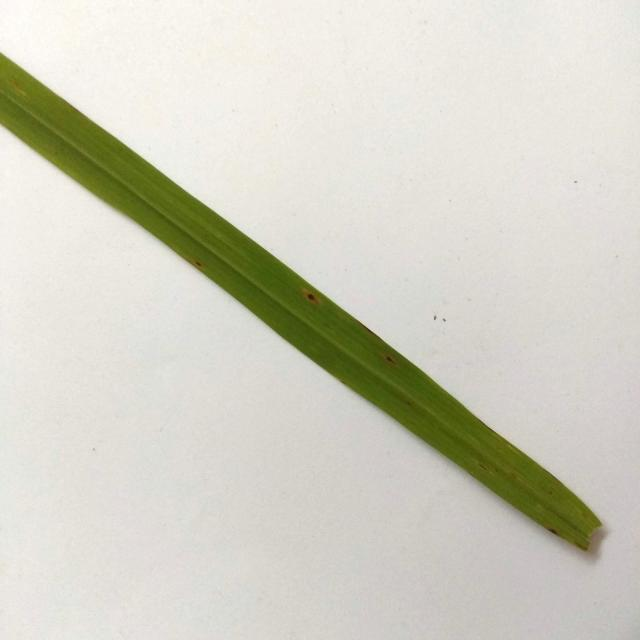Brown spot: (295, 280, 326, 312), (367, 348, 400, 368), (192, 258, 206, 268)
